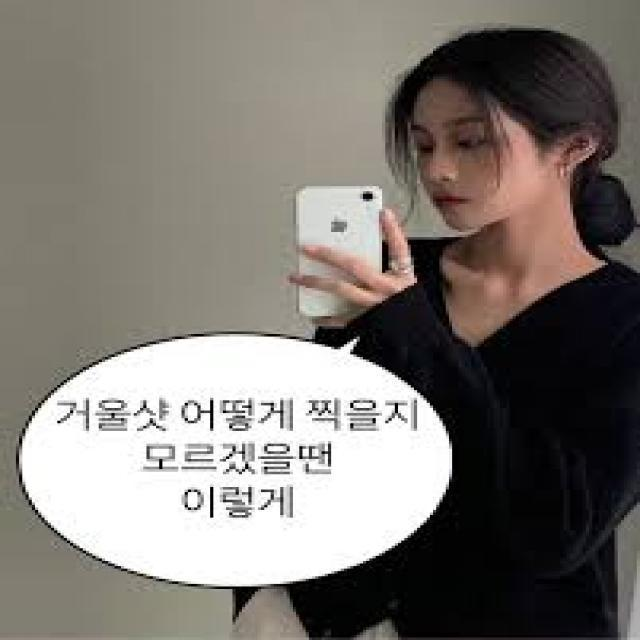Phone: (294, 182, 386, 320)
